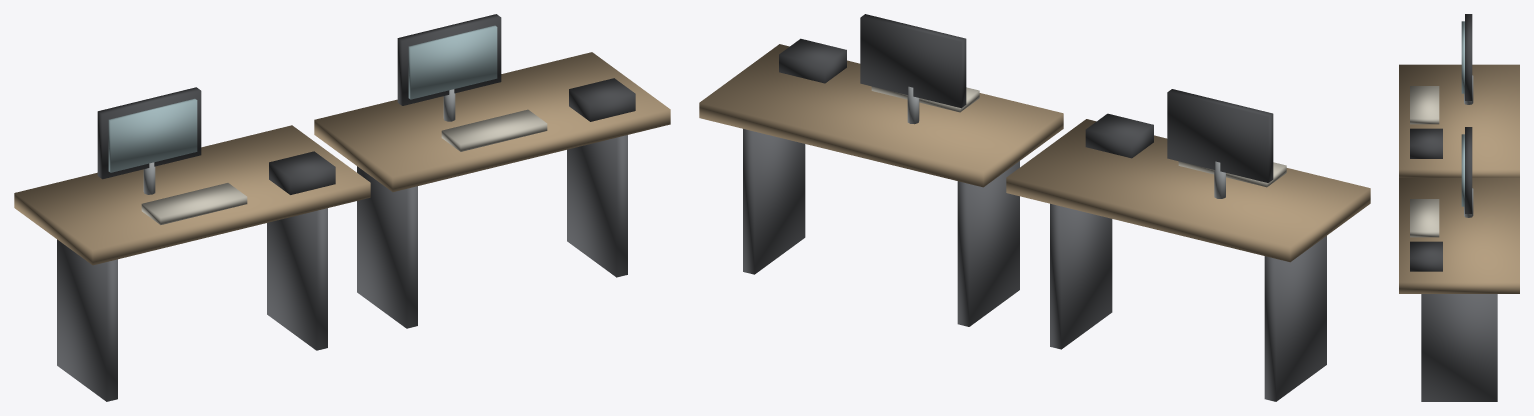
Rendered from modern_workstation__cluster.glb.
The picture shows the model from 3 angles, left to right: view 1: azimuth 30°, elevation 25°; view 2: azimuth 150°, elevation 25°; view 3: azimuth 270°, elevation 25°; orthographic projection. The views are drawn at different scales.
Parts seen in each view (by area): view 1: world; view 2: world; view 3: world.
Part boxes in pixels (x1,y1,x2,y2): world: (14,14,670,401); world: (699,14,1370,401); world: (1399,14,1519,401).
Bounding box in the file's own units: 2.81 × 1.21 × 0.66.
